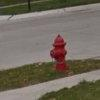Hydrant: (40, 25, 76, 81)
